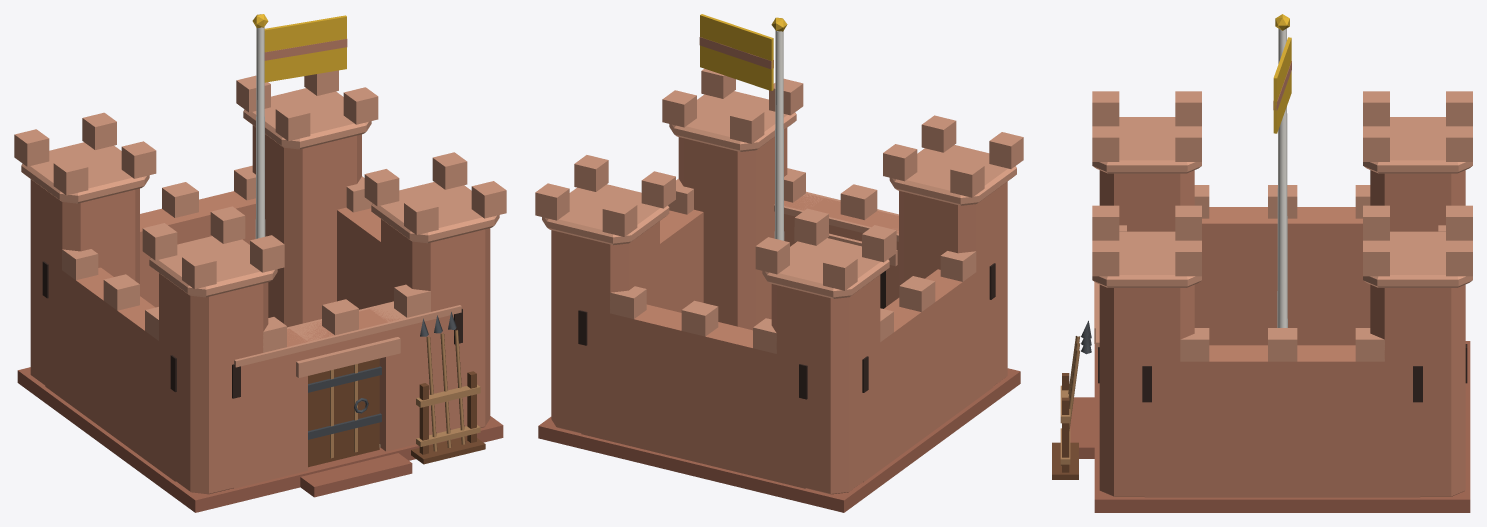
Rendered from barracks_fort.glb.
3 renders of one model, left to right at view 1: azimuth 30°, elevation 25°; view 2: azimuth 150°, elevation 25°; view 3: azimuth 270°, elevation 25°, orthographic. The views are drawn at different scales.
Parts seen in each view (by area): view 1: wall_left, tower_1, tower_4, tower_2, tower_3, wall_front_left, wall_front_right, base_plinth, gate_door, wall_right, flag, tower_2_cap (+41 smaller); view 2: wall_back, tower_3, wall_left, tower_2, tower_1, tower_4, base_plinth, wall_right, tower_1_cap, tower_4_cap, tower_3_cap, tower_2_cap (+31 smaller); view 3: wall_right, wall_left, tower_2, tower_4, base_plinth, tower_1, tower_3, tower_2_cap, tower_1_cap, tower_4_cap, tower_3_cap, flagpole (+24 smaller).
Part boxes in pixels (x1,y1,x2,y2): wall_left: [45, 258, 176, 481]; tower_1: [159, 273, 268, 494]; tower_4: [252, 125, 361, 327]; tower_2: [381, 219, 490, 427]; tower_3: [30, 179, 139, 396]; wall_front_left: [233, 328, 307, 488]; wall_front_right: [370, 308, 459, 451]; base_plinth: [17, 367, 503, 512]; gate_door: [308, 358, 379, 467]; wall_right: [337, 207, 380, 309]; flag: [264, 15, 346, 82]; tower_2_cap: [371, 182, 499, 243]; wall_back: [581, 304, 805, 488]; tower_3: [771, 275, 880, 494]; wall_left: [863, 269, 993, 482]; tower_2: [678, 128, 787, 330]; tower_1: [899, 181, 1007, 398]; tower_4: [551, 221, 659, 433]; base_plinth: [538, 368, 1020, 512]; wall_right: [660, 209, 703, 312]; tower_1_cap: [889, 145, 1016, 205]; tower_4_cap: [542, 184, 669, 245]; tower_3_cap: [762, 238, 889, 298]; tower_2_cap: [669, 91, 796, 151]; wall_right: [1144, 345, 1420, 497]; wall_left: [1194, 207, 1370, 345]; tower_2: [1099, 284, 1194, 496]; tower_4: [1370, 284, 1465, 496]; base_plinth: [1094, 341, 1470, 512]; tower_1: [1099, 170, 1194, 231]; tower_3: [1370, 170, 1465, 231]; tower_2_cap: [1092, 231, 1201, 287]; tower_1_cap: [1092, 117, 1201, 173]; tower_4_cap: [1363, 231, 1472, 287]; tower_3_cap: [1363, 117, 1472, 173]; flagpole: [1277, 28, 1287, 327].
Bounding box in the file's own units: 3.12 × 3.78 × 3.45.
